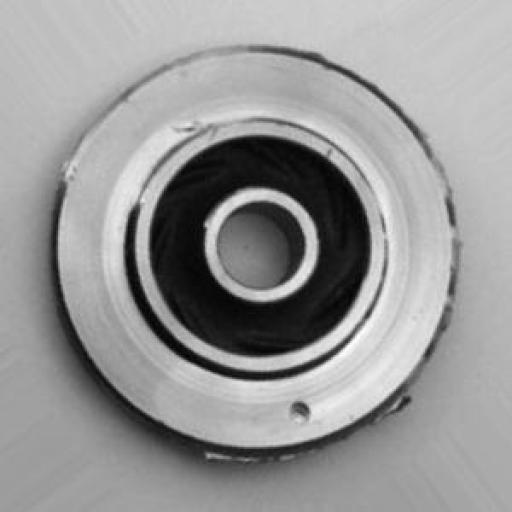defect: (45, 54, 479, 480), (270, 376, 330, 449)
